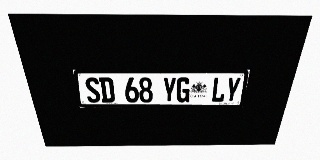6: (124, 77, 139, 103)
8: (138, 77, 153, 103)
D: (99, 77, 115, 103)
G: (176, 77, 191, 102)
L: (211, 77, 227, 102)
S: (84, 77, 101, 103)
Y: (224, 77, 241, 102), (162, 77, 176, 102)
